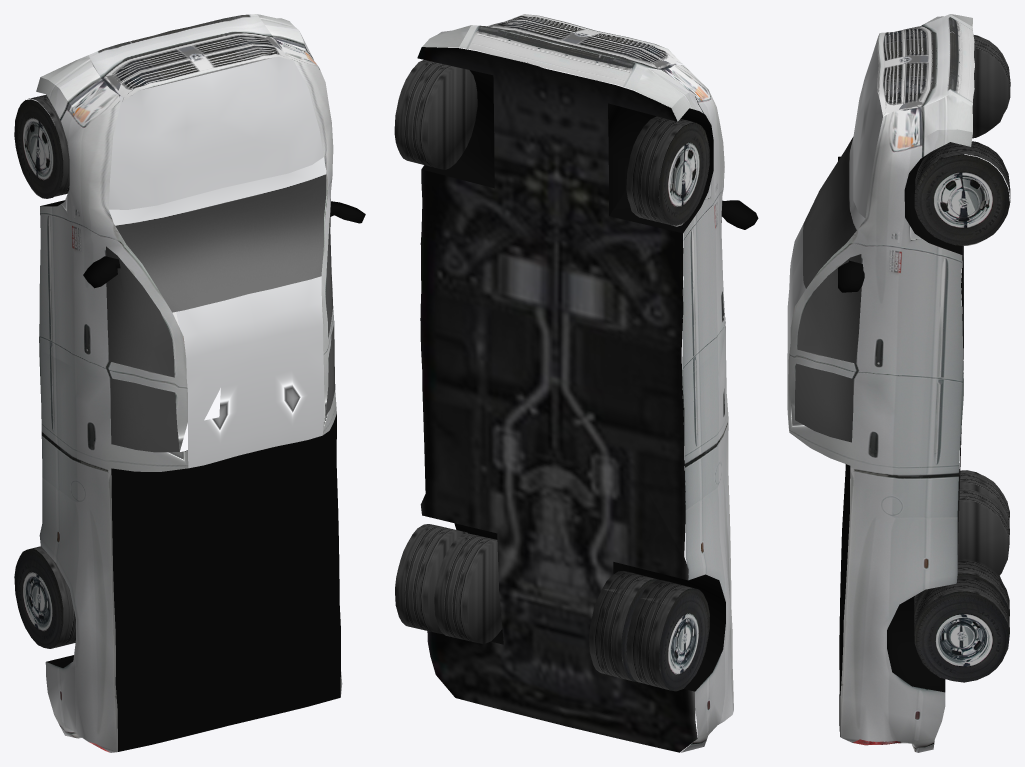
File: pickup.gltf
The picture shows the model from 3 angles, left to right: view 1: azimuth 30°, elevation 25°; view 2: azimuth 150°, elevation 25°; view 3: azimuth 270°, elevation 25°; orthographic projection. The views are drawn at different scales.
Visible parts, largest first — view 1: Capa, Lateral, Capo, Teto, VidroF, Frente, Vlateral, rodabas, roda3, Retrovisor; view 2: Assoalho, Lateral, Frente, SPneus, rodabas, roda3, sproda4, roda7, roda5, roda8, Retrovisor; view 3: Lateral, Frente, roda5, Vlateral, roda4, VidroF, SPneus, roda8, Capo, roda3, Capa, sproda4 (+5 smaller).
Boxes of the visible parts, box(x1,y1,x2,y2) form: Capa: box(111, 414, 340, 751); Lateral: box(36, 31, 342, 752); Capo: box(109, 56, 323, 209); Teto: box(172, 276, 324, 468); VidroF: box(109, 157, 326, 312); Frente: box(40, 14, 305, 107); Vlateral: box(106, 199, 335, 452); rodabas: box(14, 546, 75, 648); roda3: box(14, 94, 69, 198); Retrovisor: box(83, 256, 120, 288); Assoalho: box(417, 47, 697, 752); Lateral: box(663, 64, 733, 752); Frente: box(422, 14, 692, 107); SPneus: box(421, 70, 725, 691); rodabas: box(626, 580, 709, 691); roda3: box(626, 116, 709, 226); sproda4: box(394, 60, 477, 169); roda7: box(434, 533, 502, 643); roda5: box(395, 524, 467, 634); roda8: box(589, 571, 659, 681); Retrovisor: box(721, 200, 758, 229); Lateral: box(788, 107, 972, 752); Frente: box(877, 14, 974, 140); roda5: box(914, 576, 1009, 682); Vlateral: box(795, 254, 861, 442); roda4: box(914, 154, 1009, 245); VidroF: box(803, 137, 865, 288); SPneus: box(887, 153, 963, 692); roda8: box(957, 487, 1009, 575); Capo: box(853, 39, 882, 218); roda3: box(972, 34, 1010, 138); Capa: box(839, 464, 850, 736); sproda4: box(915, 141, 1010, 202).
Size of the model in its own units: 0.5422 by 1.25 by 0.3908.
Materials: 1 (1 with a texture image).
